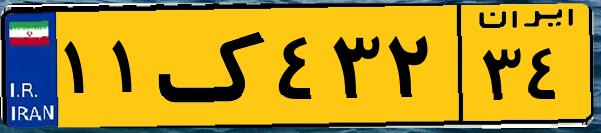1: (57, 26, 110, 100), (110, 28, 158, 98)
2: (385, 28, 445, 110)
3: (330, 28, 385, 110), (475, 38, 525, 113)
4: (270, 28, 330, 110), (525, 38, 570, 115)
ک: (158, 12, 270, 120)
